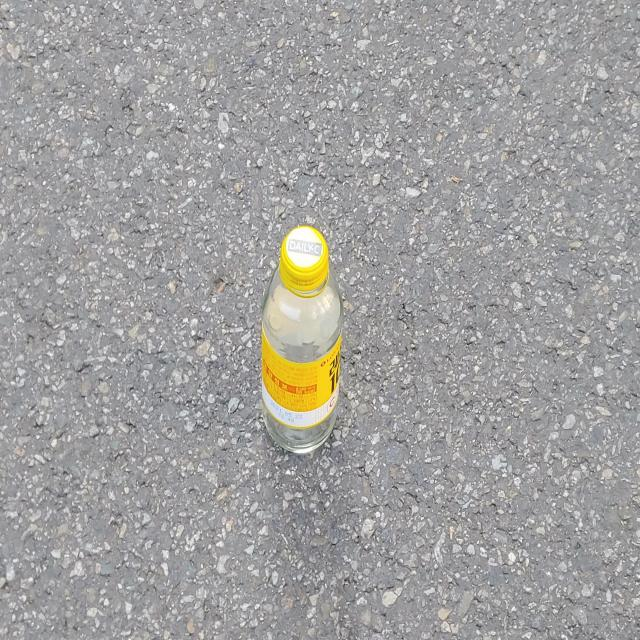glass: (261, 225, 343, 453)
